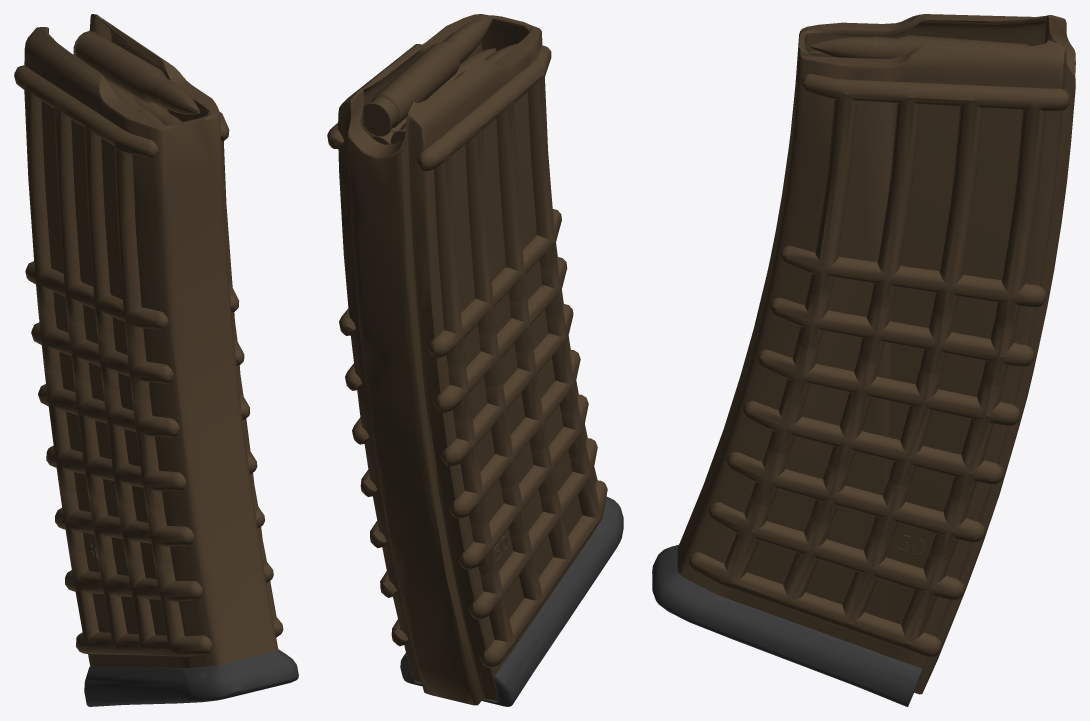
The model's file is SM_MAGAUGZ.fbx.
The picture shows the model from 3 angles, left to right: view 1: azimuth 30°, elevation 25°; view 2: azimuth 150°, elevation 25°; view 3: azimuth 270°, elevation 25°; orthographic projection. The views are drawn at different scales.
Parts seen in each view (by area): view 1: Silver Metal.001; view 2: Silver Metal.001; view 3: Silver Metal.001.
Part boxes in pixels (<box>): Silver Metal.001: <box>14,14,298,706</box>; Silver Metal.001: <box>327,14,623,706</box>; Silver Metal.001: <box>652,14,1075,706</box>.
Bounding box in the file's own units: 4.35 × 24.12 × 14.15.
